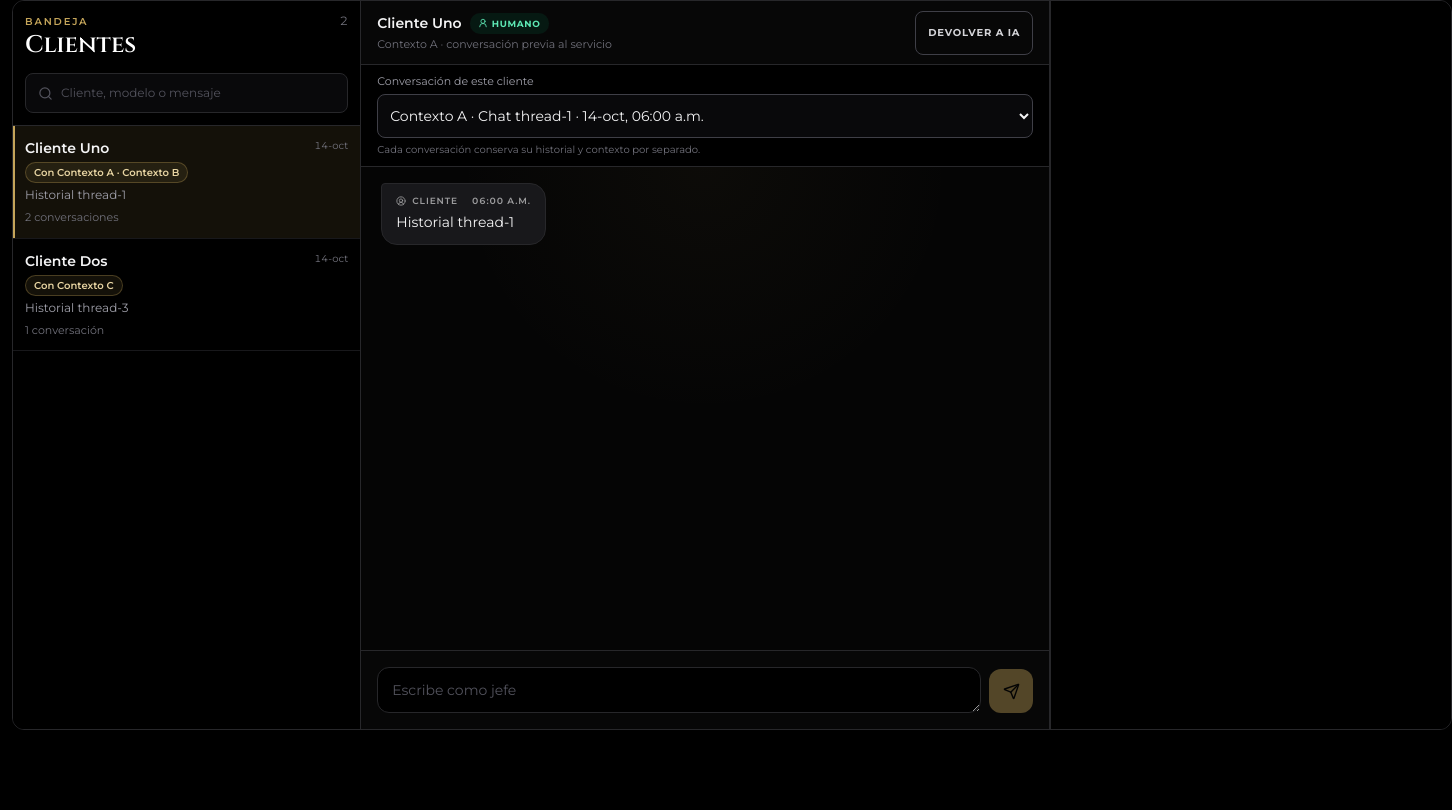
retira un hilo eliminado del snapshot y no mantiene un destino fuera del alcance actual
Select "Contexto B · Chat thread-2 · 14-oct, 06:00 a.m." in the dropdown labelled "Conversación de este cliente": (705, 116) [377,94,1033,138]
Wait 500 ms
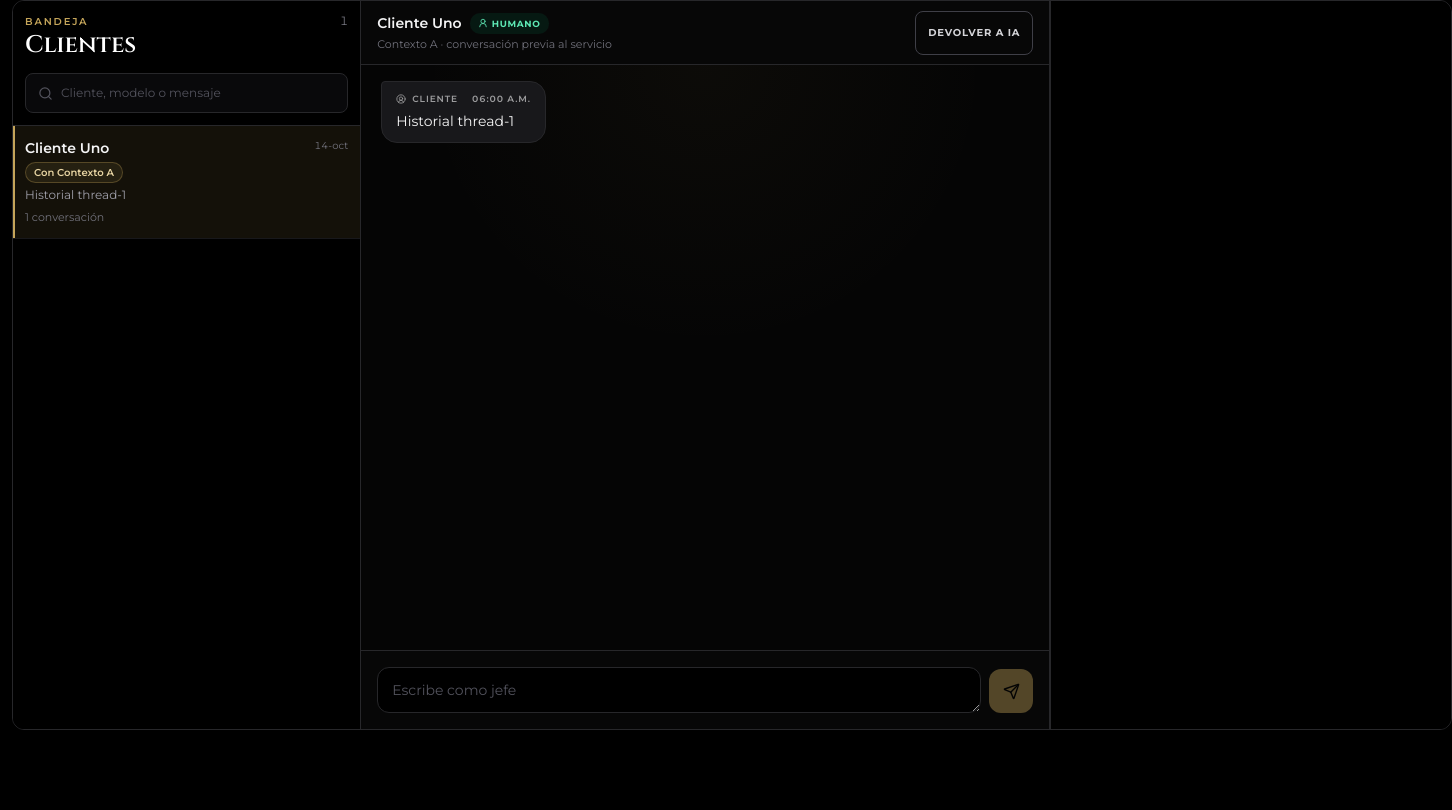
Check: the text "Historial thread-1" below "06:00 a.m." is shown, box [396,112,514,130]
Check: the dropdown is gone
